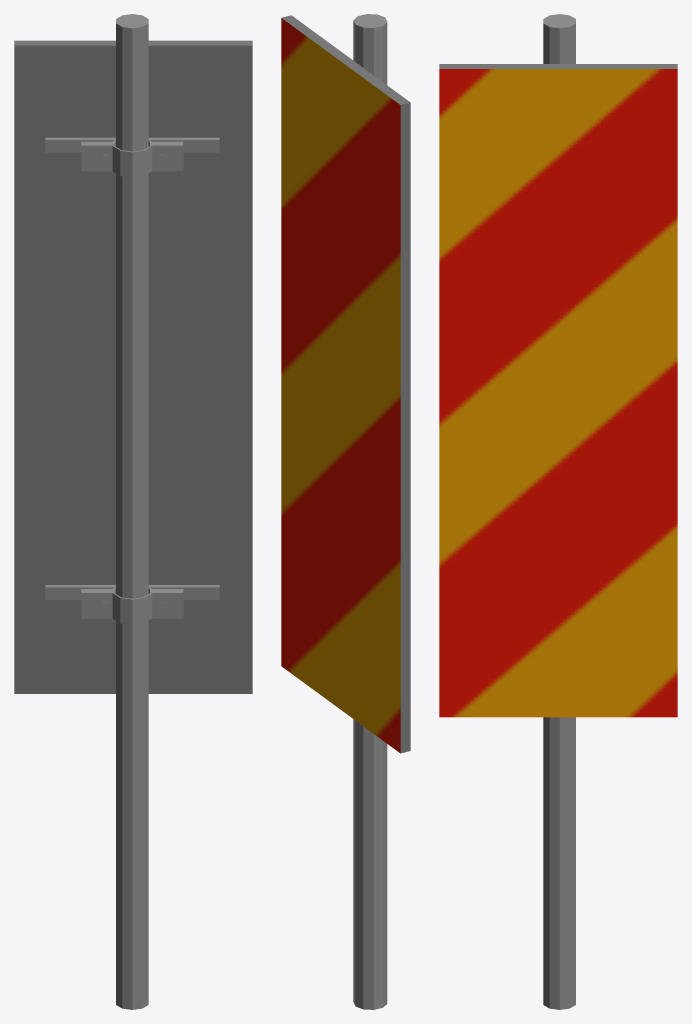
Rendered from obj_sign_10.fbx.
3 views of the same model, side by side, from view 1: azimuth 90°, elevation 25°; view 2: azimuth 210°, elevation 25°; view 3: azimuth 270°, elevation 25° (orthographic).
Visible parts, largest first — view 1: obj_sign_10; view 2: obj_sign_10; view 3: obj_sign_10.
Part boxes in pixels (box(x1,y1,x2,y2)): obj_sign_10: box(14, 14, 252, 1009); obj_sign_10: box(281, 14, 410, 1009); obj_sign_10: box(439, 14, 677, 1009).
Bounding box in the file's own units: 0.0398 × 0.8022 × 0.1767.
1 material, 1 textured.
